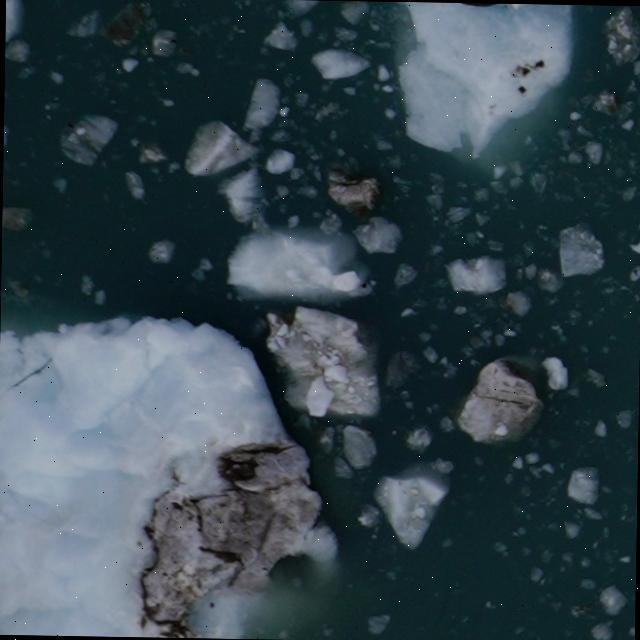seal: (444, 2, 517, 9)
